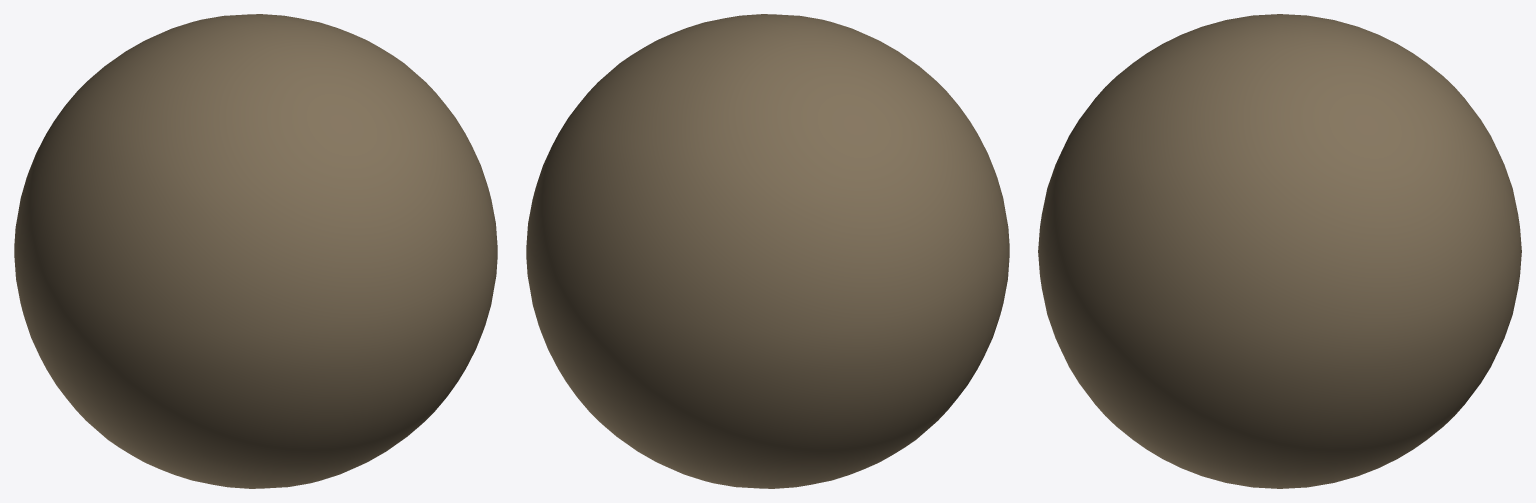
File: CompareNormal.obj
3 views of the same model, side by side, from view 1: azimuth 30°, elevation 25°; view 2: azimuth 150°, elevation 25°; view 3: azimuth 270°, elevation 25° (orthographic).
Parts seen in each view (by area): view 1: Sphere002; view 2: Sphere002; view 3: Sphere002.
Part boxes in pixels (x1,y1,x2,y2): Sphere002: (14, 14, 497, 488); Sphere002: (526, 14, 1009, 488); Sphere002: (1038, 14, 1521, 488).
Size of the model in its own units: 1 by 0.9803 by 1.
